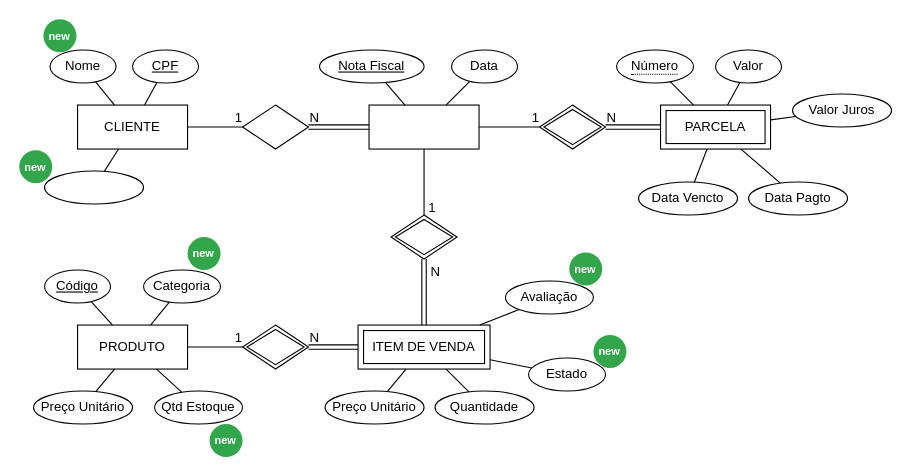
This 911x475 diagram has some shape labels left out. The centre of each missing label's shape, as x and y in pixels:
Data Nascto: (93,187)
R1: (275,126)
R2: (423,236)
R3: (275,346)
R4: (572,126)
VENDA: (423,126)
